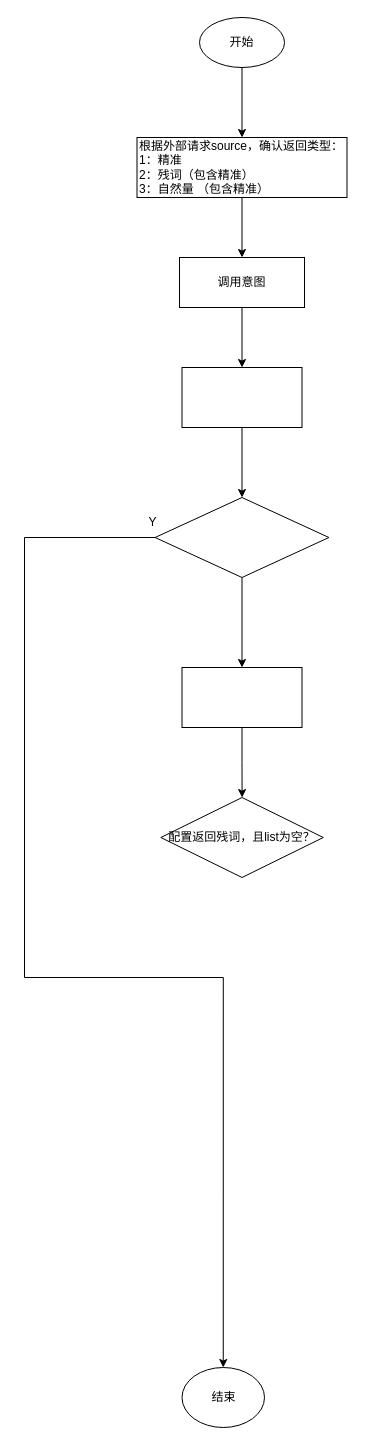
Image size: 365x1445. Some labels were removed from this diagram. Here are the shapes that lost their labels. From the top down, the centre of each, then its label:
At (x=241, y=397): "list.add(意图精准)".
At (x=241, y=537): "配置返回精准，且list为空？".
At (x=241, y=697): "list.add(意图残词)".
